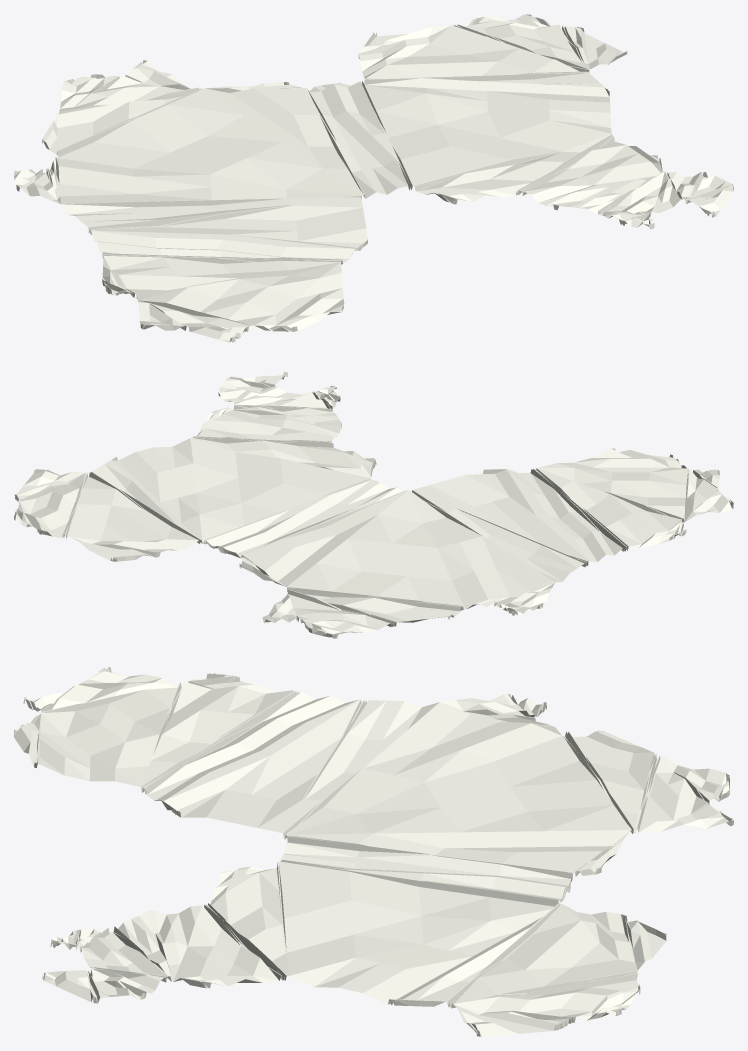
The model's file is Punjab2.glb.
3 views of the same model, one above another, from view 1: azimuth 30°, elevation 25°; view 2: azimuth 150°, elevation 25°; view 3: azimuth 270°, elevation 25° (orthographic). The views are drawn at different scales.
Visible parts, largest first — view 1: Map_rivers.001; view 2: Map_rivers.001; view 3: Map_rivers.001.
Boxes of the visible parts, x1,y1,x2,y2 form: Map_rivers.001: (14,14,733,342); Map_rivers.001: (14,371,733,638); Map_rivers.001: (14,667,733,1036).
Size of the model in its own units: 1.15 by 0.00817 by 0.9623.
1 material, 1 textured.
